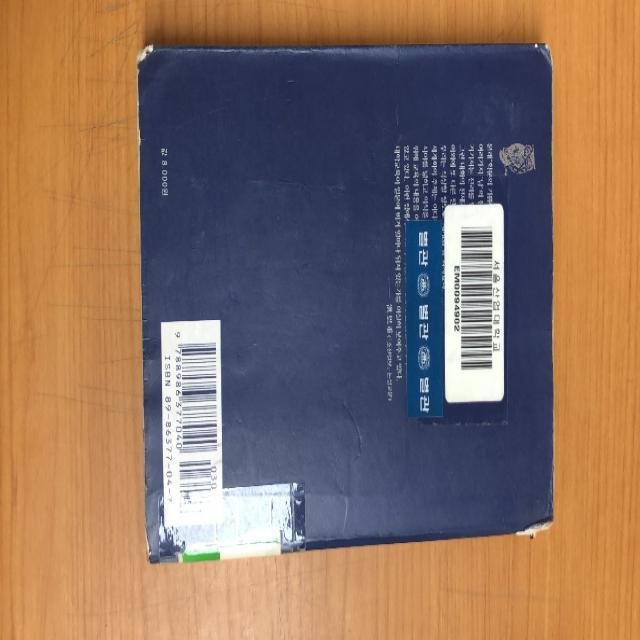Ripped: (512, 513, 556, 542), (135, 40, 156, 65)
Wornout: (548, 67, 557, 513), (134, 65, 145, 152), (141, 500, 155, 565), (141, 405, 149, 442), (532, 40, 552, 53)
